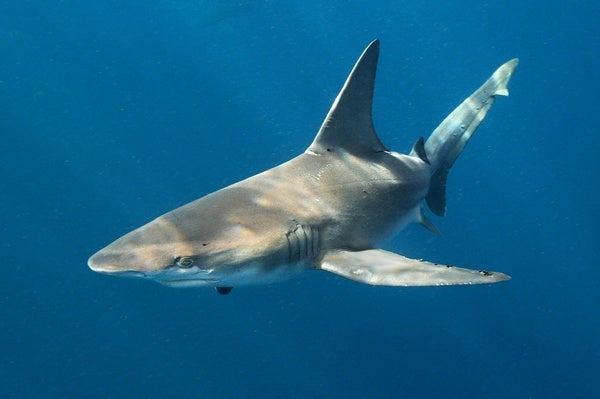shark: (79, 44, 546, 295)
